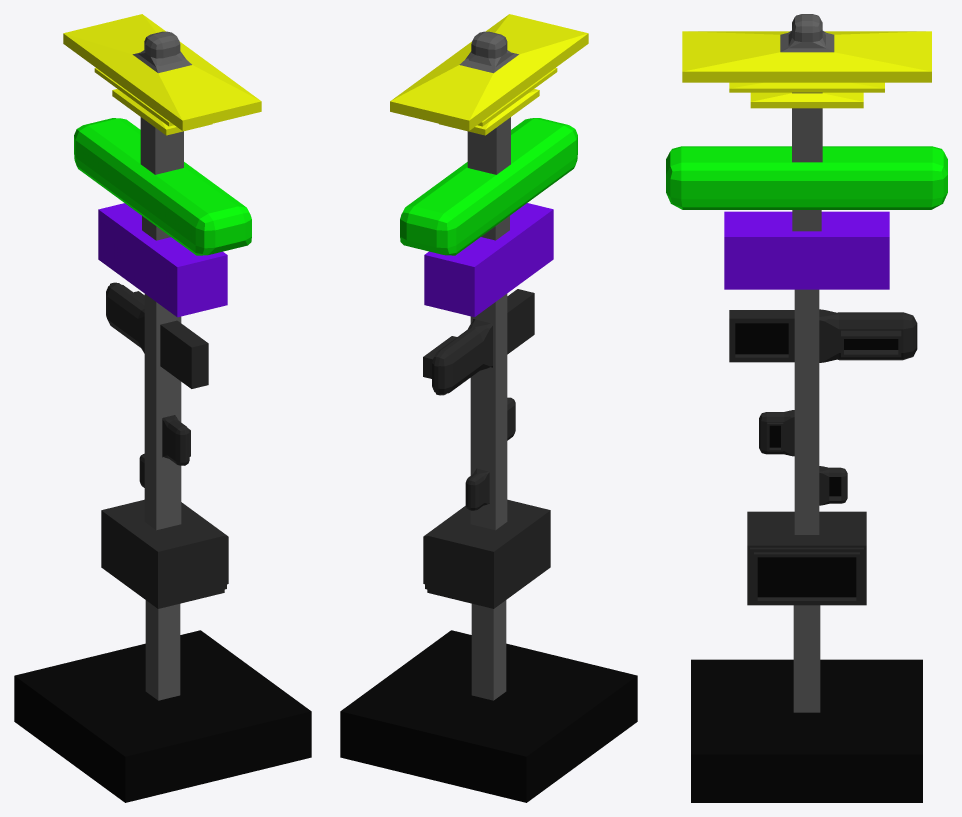
Rendered from Advert Pole.fbx.
3 views of the same model, side by side, from view 1: azimuth 30°, elevation 25°; view 2: azimuth 150°, elevation 25°; view 3: azimuth 270°, elevation 25° (orthographic). The views are drawn at different scales.
Parts seen in each view (by area): view 1: Cube (×6); view 2: Cube (×6); view 3: Cube (×7).
Part boxes in pixels (x1,y1,x2,y2): Cube (×6): [14, 14, 311, 802]; Cube (×6): [340, 14, 637, 802]; Cube (×7): [666, 14, 947, 802].
Size of the model in its own units: 730 by 2639 by 914.
